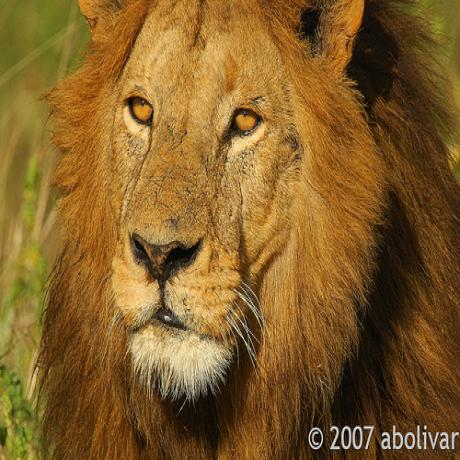Lion: (30, 0, 460, 460)
